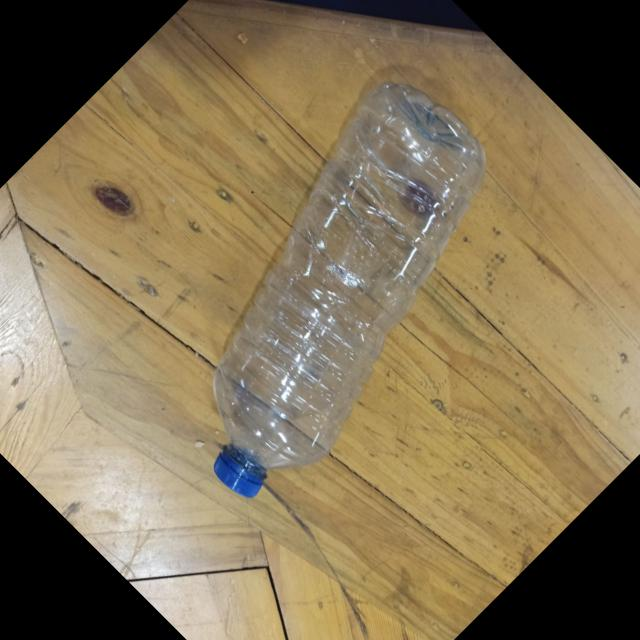BotolPlastik: (99, 58, 564, 523)
